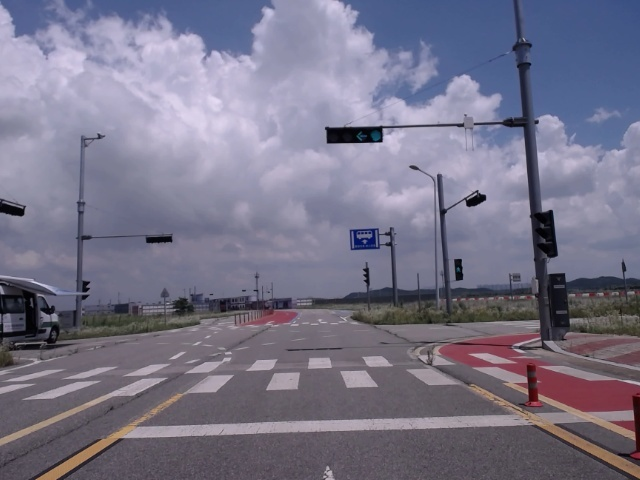all_green_4: (326, 127, 384, 143)
